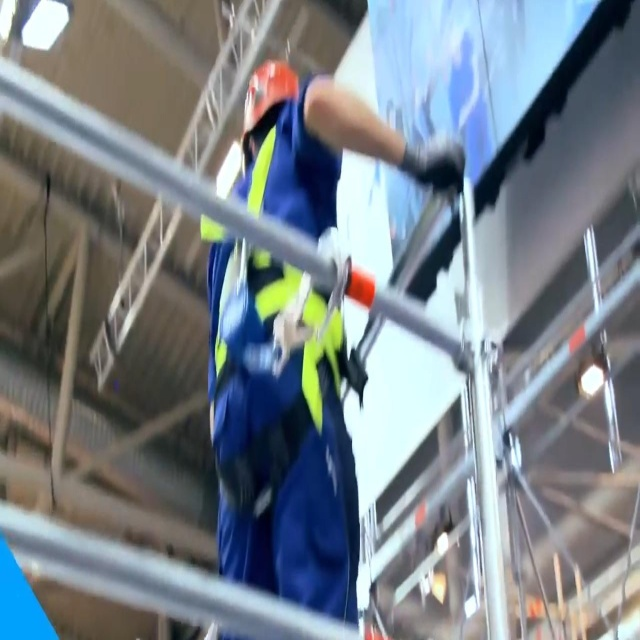Arnes_seguridad: (197, 100, 352, 491)
